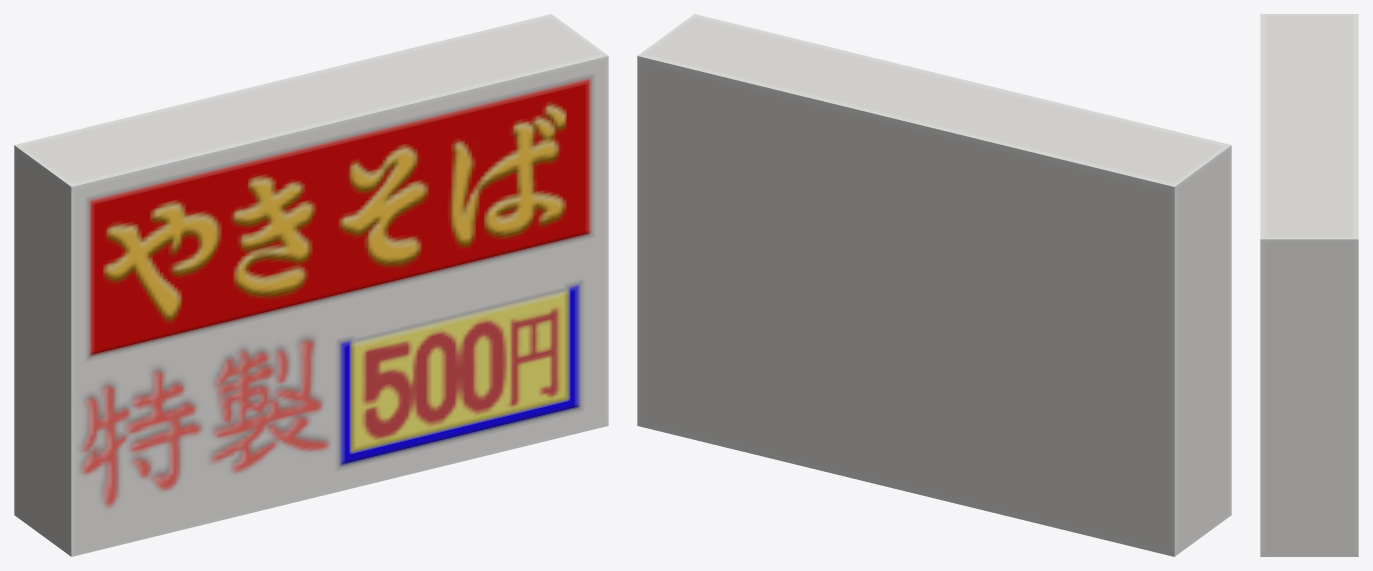
Rendered from jsf_Light_FriedNoodles.fbx.
The picture shows the model from 3 angles, left to right: view 1: azimuth 30°, elevation 25°; view 2: azimuth 150°, elevation 25°; view 3: azimuth 270°, elevation 25°; orthographic projection. The views are drawn at different scales.
Visible parts, largest first — view 1: jsf_Light_FriedNoodles; view 2: jsf_Light_FriedNoodles; view 3: jsf_Light_FriedNoodles.
Boxes of the visible parts, left/top/right/bottom form: jsf_Light_FriedNoodles: left=14, top=14, right=608, bottom=556; jsf_Light_FriedNoodles: left=637, top=14, right=1231, bottom=556; jsf_Light_FriedNoodles: left=1260, top=14, right=1358, bottom=556.
Size of the model in its own units: 38 by 25 by 7.02.
